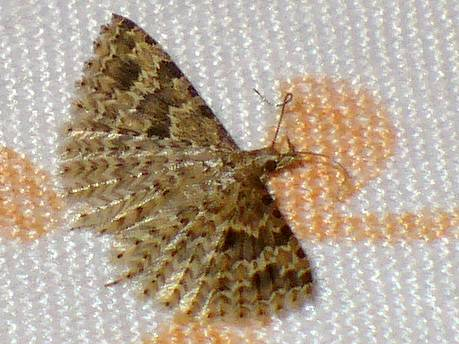Alucitidae: (55, 11, 345, 327)
moth: (53, 9, 343, 325)
